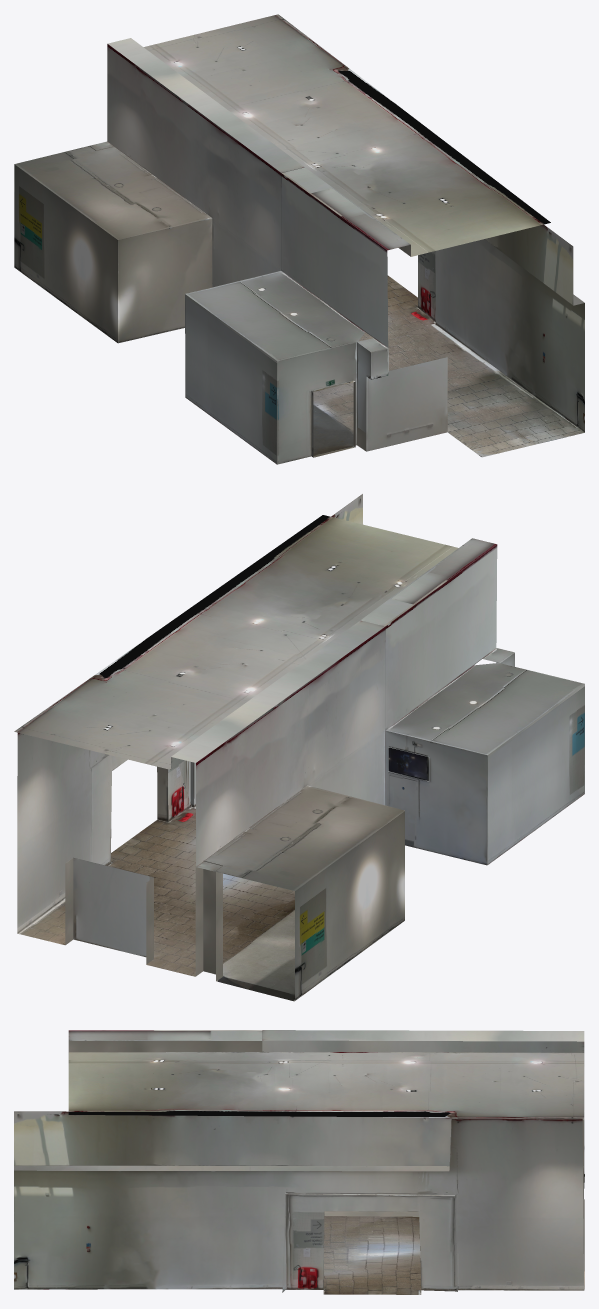
File: main-front-LP.fbx
3 renders of one model, top to bottom at view 1: azimuth 30°, elevation 25°; view 2: azimuth 150°, elevation 25°; view 3: azimuth 270°, elevation 25°, orthographic. The views are drawn at different scales.
Parts seen in each view (by area): view 1: main-front-LP; view 2: main-front-LP; view 3: main-front-LP.
Boxes of the visible parts, left/top/right/bottom form: main-front-LP: left=14, top=14, right=584, bottom=464; main-front-LP: left=14, top=494, right=584, bottom=1001; main-front-LP: left=14, top=1030, right=584, bottom=1294.
Bounding box in the file's own units: 927 × 646 × 1797.
1 material, 1 textured.
